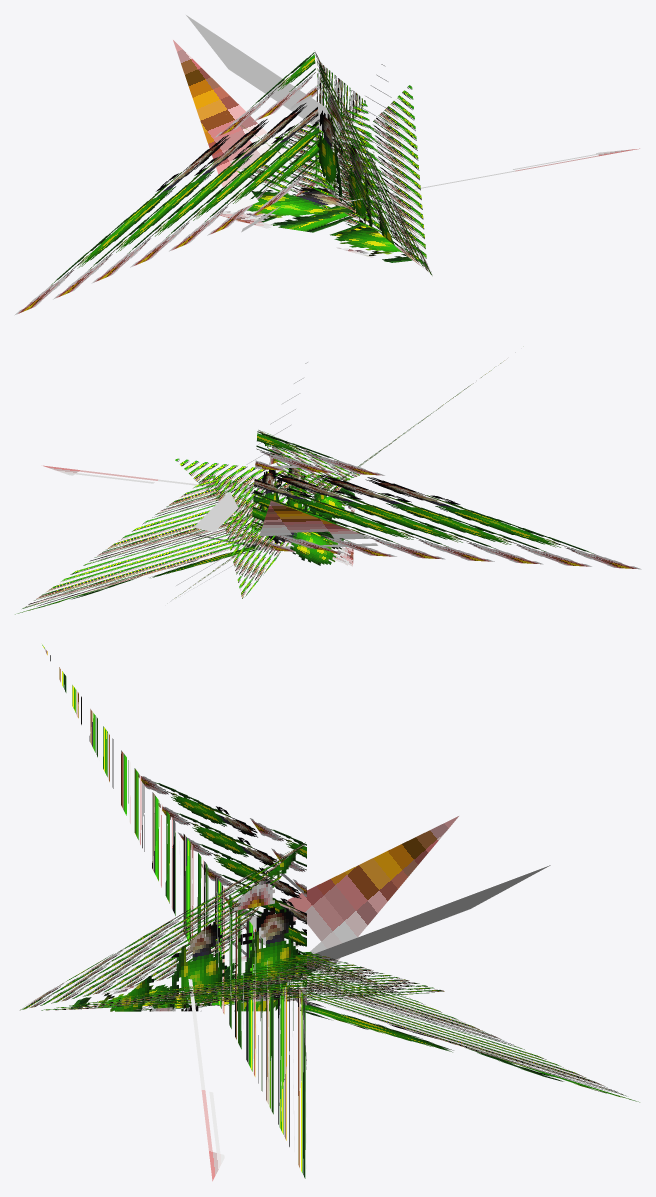
File: assets0C_model_001.obj
3 views of the same model, one above another, from view 1: azimuth 30°, elevation 25°; view 2: azimuth 150°, elevation 25°; view 3: azimuth 270°, elevation 25° (orthographic). The views are drawn at different scales.
Visible parts, largest first — view 1: assets0C_model_001; view 2: assets0C_model_001; view 3: assets0C_model_001.
Part boxes in pixels (x1,y1,x2,y2): assets0C_model_001: [14, 15, 639, 315]; assets0C_model_001: [15, 360, 641, 614]; assets0C_model_001: [20, 644, 639, 1181].
Bounding box in the file's own units: 59.52 × 25.53 × 40.59.
Materials: 1 (1 with a texture image).
